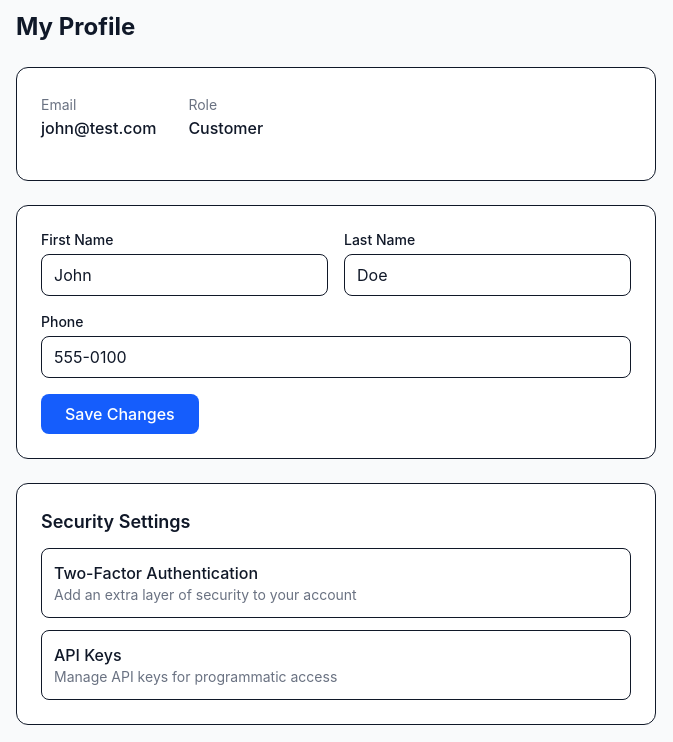
ProfilePage › should disable button while submitting
Click the button "Save Changes" at (120, 414), box 41,394 -> 199,434
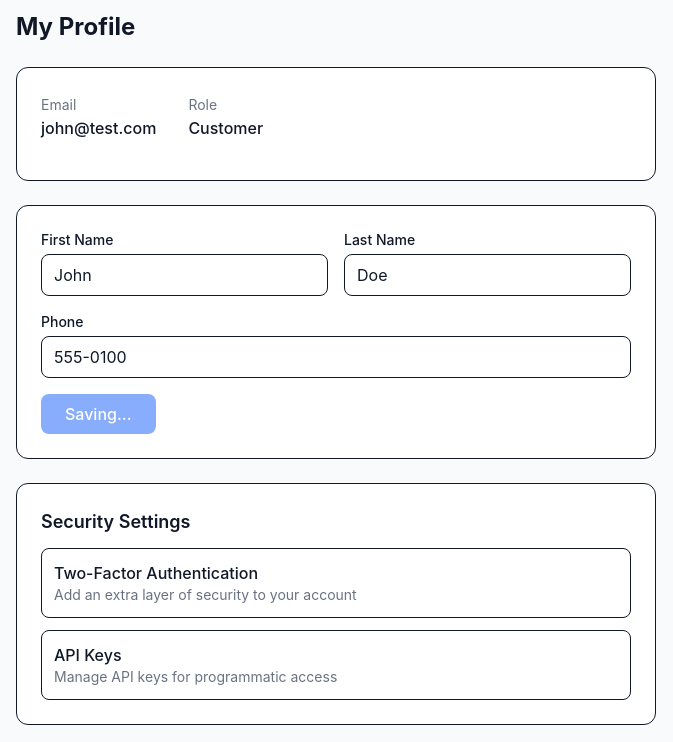
Expected: the button reads "Saving...", 41,394 -> 156,434
Expected: the button is disabled, 41,394 -> 156,434
